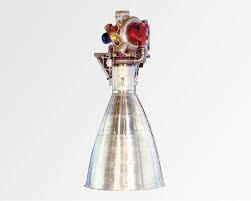thruster: (82, 87, 167, 192)
